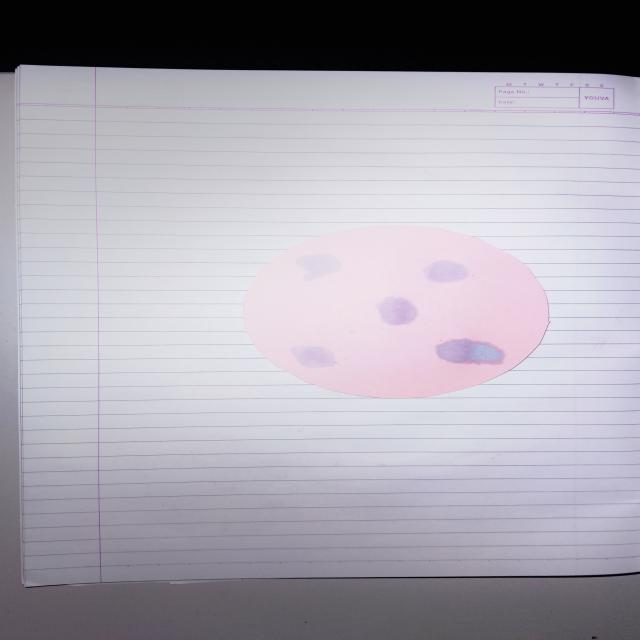BlueColor: (436, 339, 505, 365), (296, 254, 340, 281), (378, 297, 417, 325), (291, 346, 336, 368), (424, 261, 468, 283)
